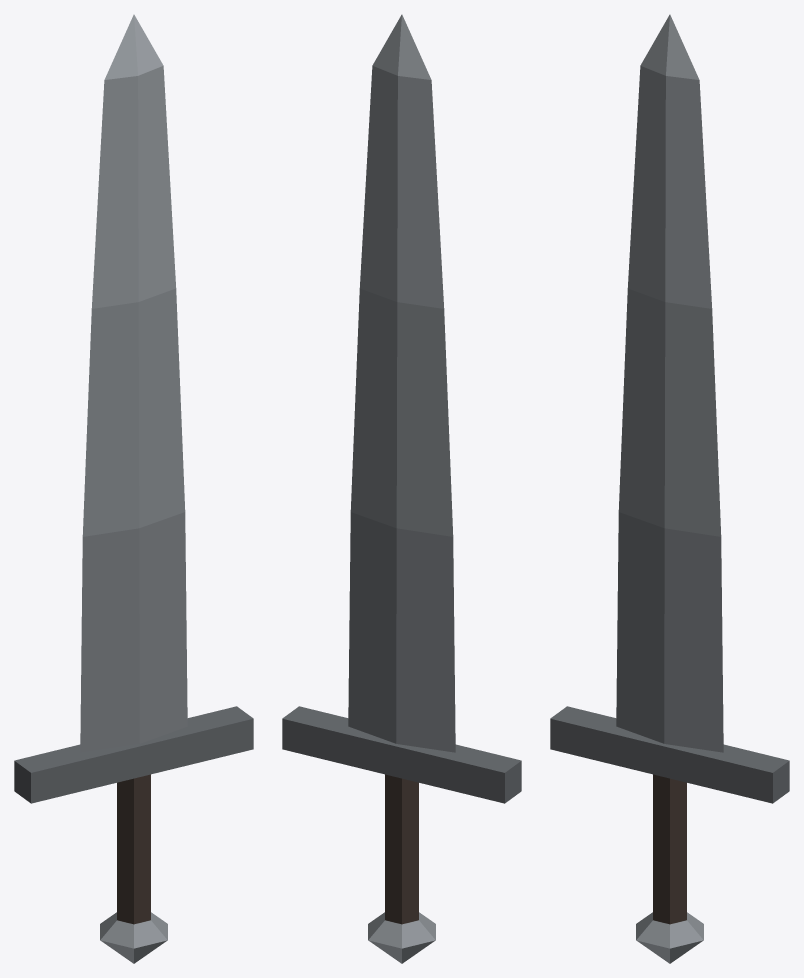
File: sword_broad_steel_s1021.glb
3 views of the same model, side by side, from view 1: azimuth 30°, elevation 25°; view 2: azimuth 150°, elevation 25°; view 3: azimuth 330°, elevation 25° (orthographic).
Parts seen in each view (by area): view 1: sword_broad_steel_s1021; view 2: sword_broad_steel_s1021; view 3: sword_broad_steel_s1021.
Part boxes in pixels (box(x1,y1,x2,y2)): sword_broad_steel_s1021: box(14, 14, 253, 963); sword_broad_steel_s1021: box(282, 14, 521, 963); sword_broad_steel_s1021: box(550, 14, 789, 963).
Bounding box in the file's own units: 0.1973 × 0.8044 × 0.052.
Materials: 1 (1 with a texture image).
